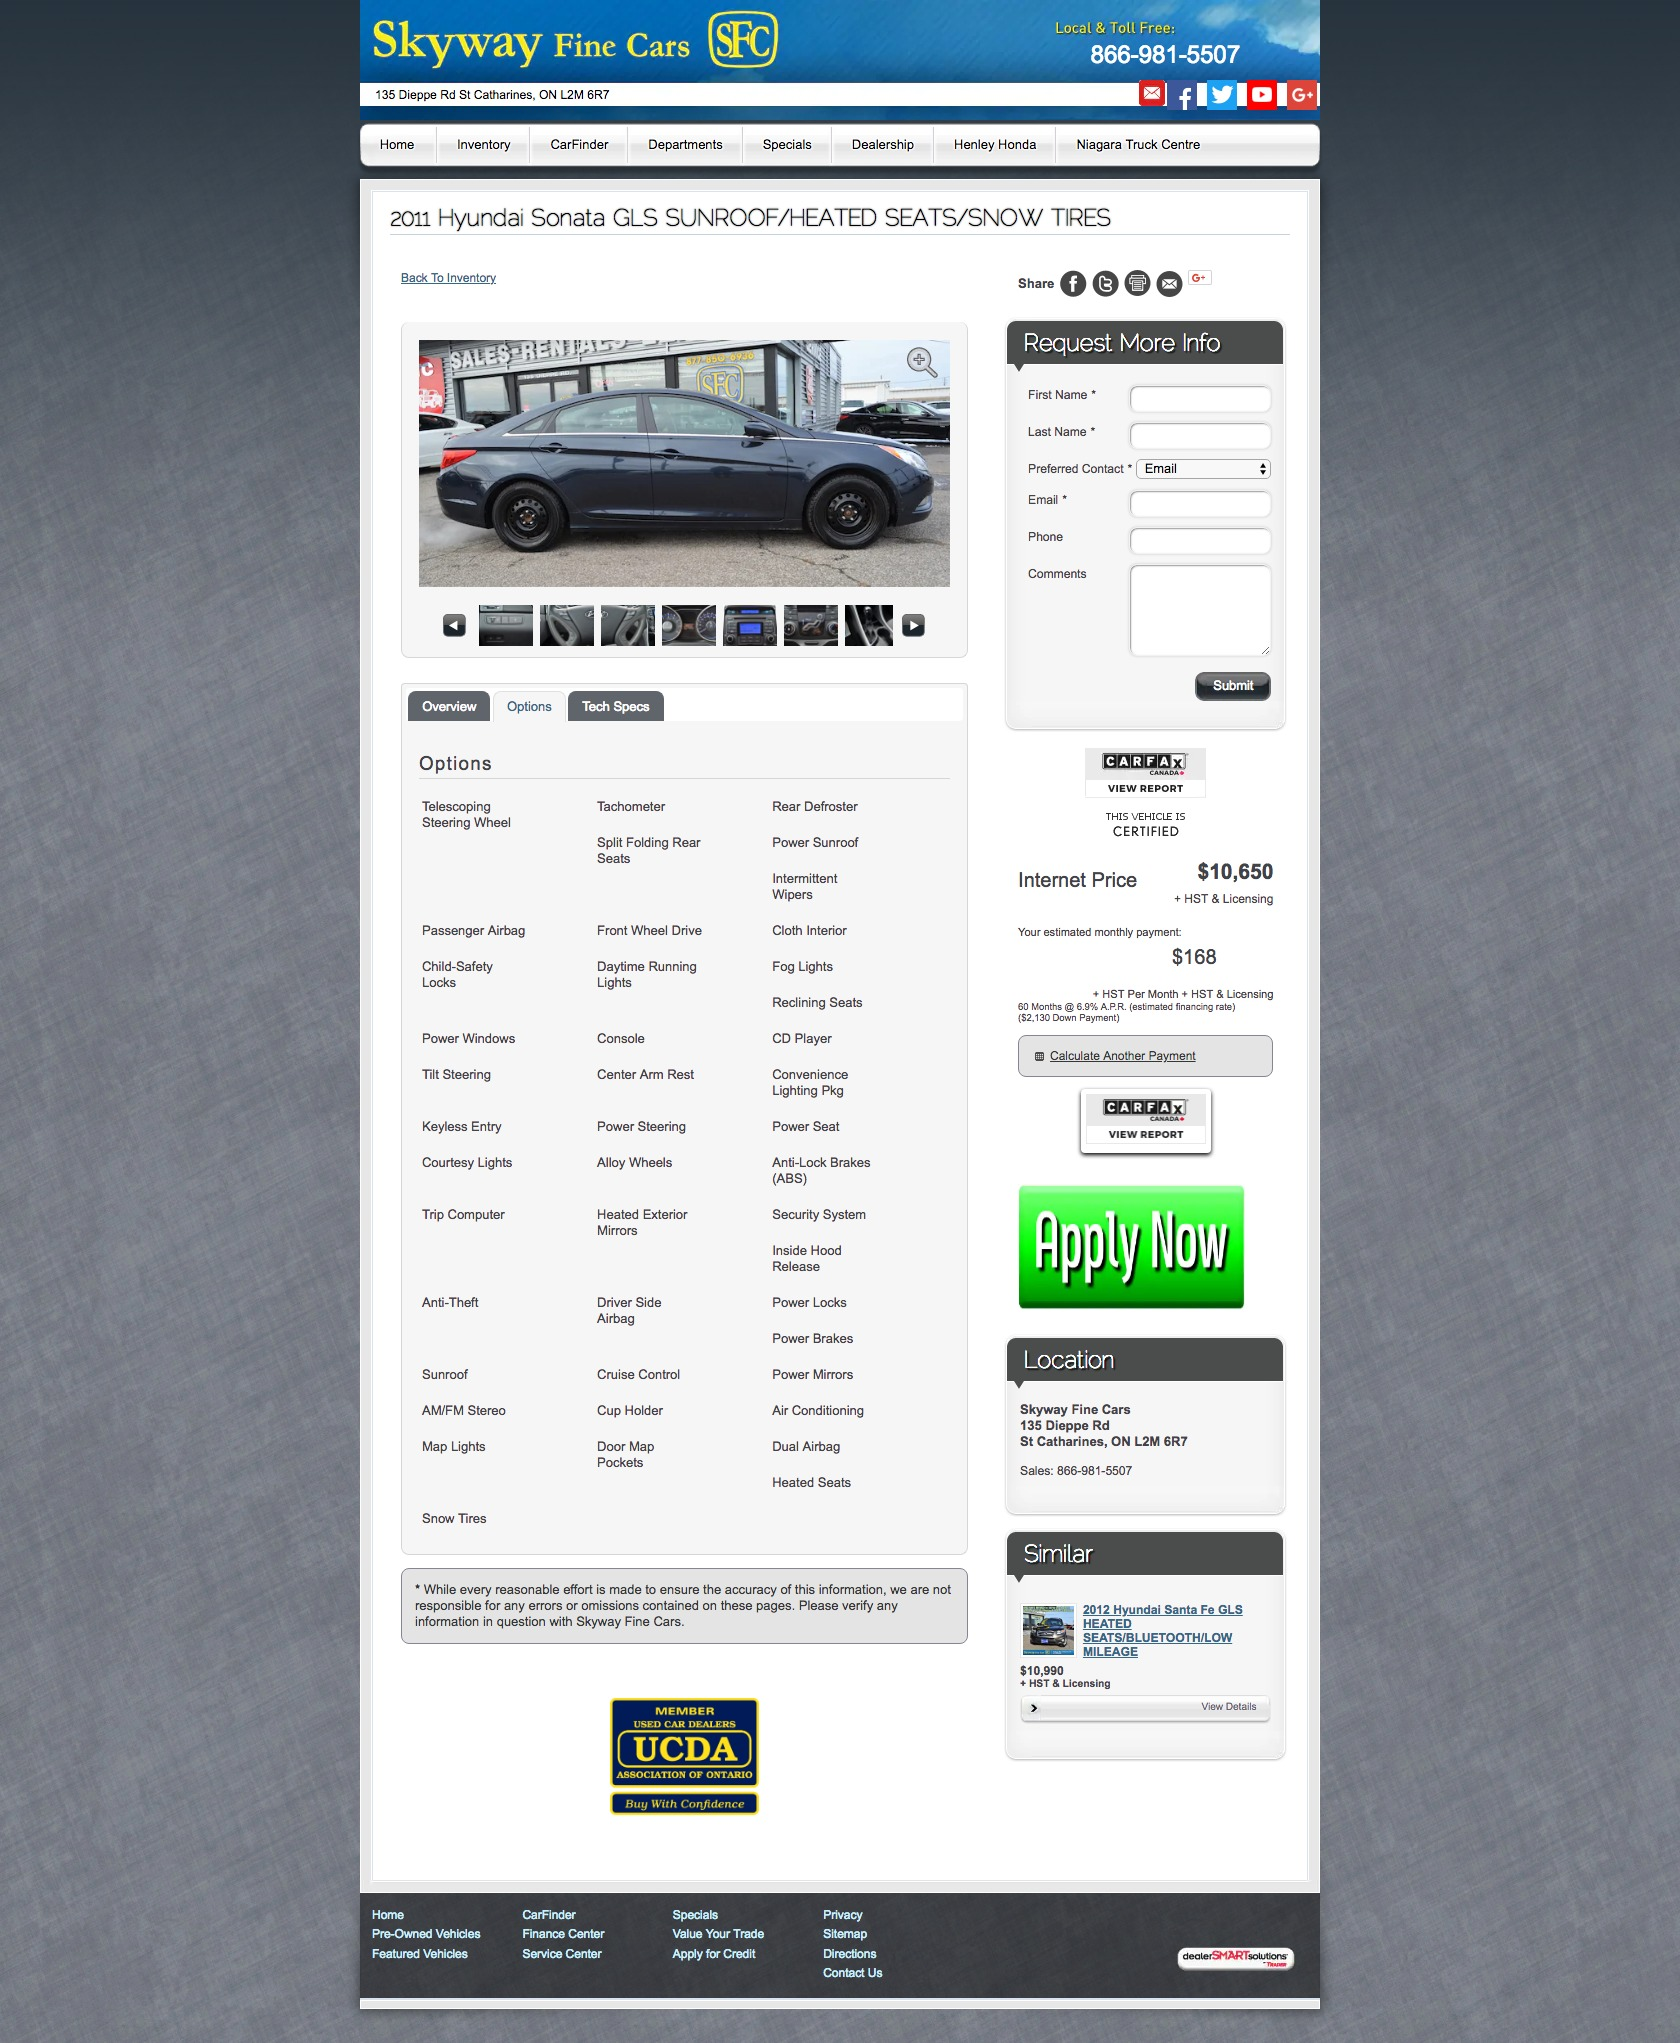car: (903, 613, 927, 638)
